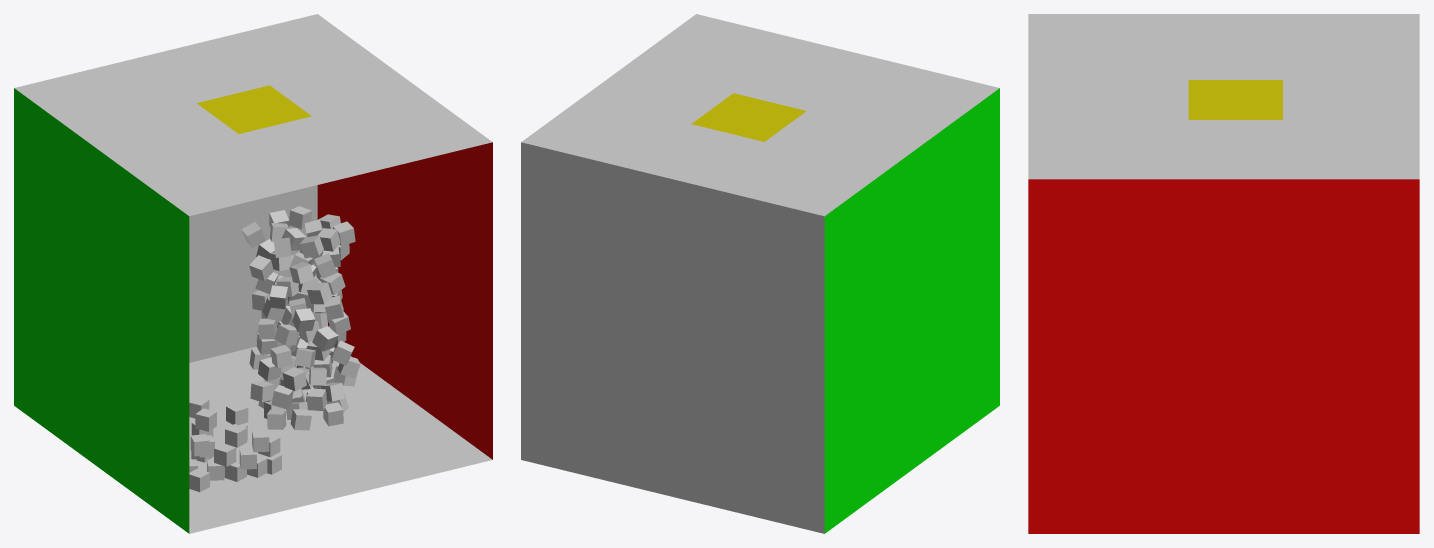
Rendered from cube_scene_large_pile.obj.
The picture shows the model from 3 angles, left to right: view 1: azimuth 30°, elevation 25°; view 2: azimuth 150°, elevation 25°; view 3: azimuth 270°, elevation 25°; orthographic projection. The views are drawn at different scales.
Visible parts, largest first — view 1: Plane.001, Plane.004, Plane.002, Plane, Plane.003, Cube.003, Plane.005_Plane.006; view 2: Plane.003, Plane.001, Plane.004, Plane.005_Plane.006; view 3: Plane.002, Plane.004, Plane.005_Plane.006.
Part boxes in pixels (x1=…): Plane.001: x1=14, y1=88, x2=189, y2=533; Plane.004: x1=14, y1=14, x2=492, y2=216; Plane.002: x1=317, y1=142, x2=492, y2=459; Plane: x1=189, y1=339, x2=492, y2=533; Plane.003: x1=189, y1=185, x2=317, y2=362; Cube.003: x1=189, y1=396, x2=281, y2=492; Plane.005_Plane.006: x1=197, y1=85, x2=311, y2=133; Plane.003: x1=521, y1=142, x2=824, y2=533; Plane.001: x1=824, y1=88, x2=999, y2=533; Plane.004: x1=521, y1=14, x2=999, y2=216; Plane.005_Plane.006: x1=691, y1=93, x2=806, y2=141; Plane.002: x1=1028, y1=179, x2=1419, y2=533; Plane.004: x1=1028, y1=14, x2=1419, y2=179; Plane.005_Plane.006: x1=1188, y1=80, x2=1282, y2=119.
Size of the model in its own units: 8.28 by 8.28 by 8.28.
